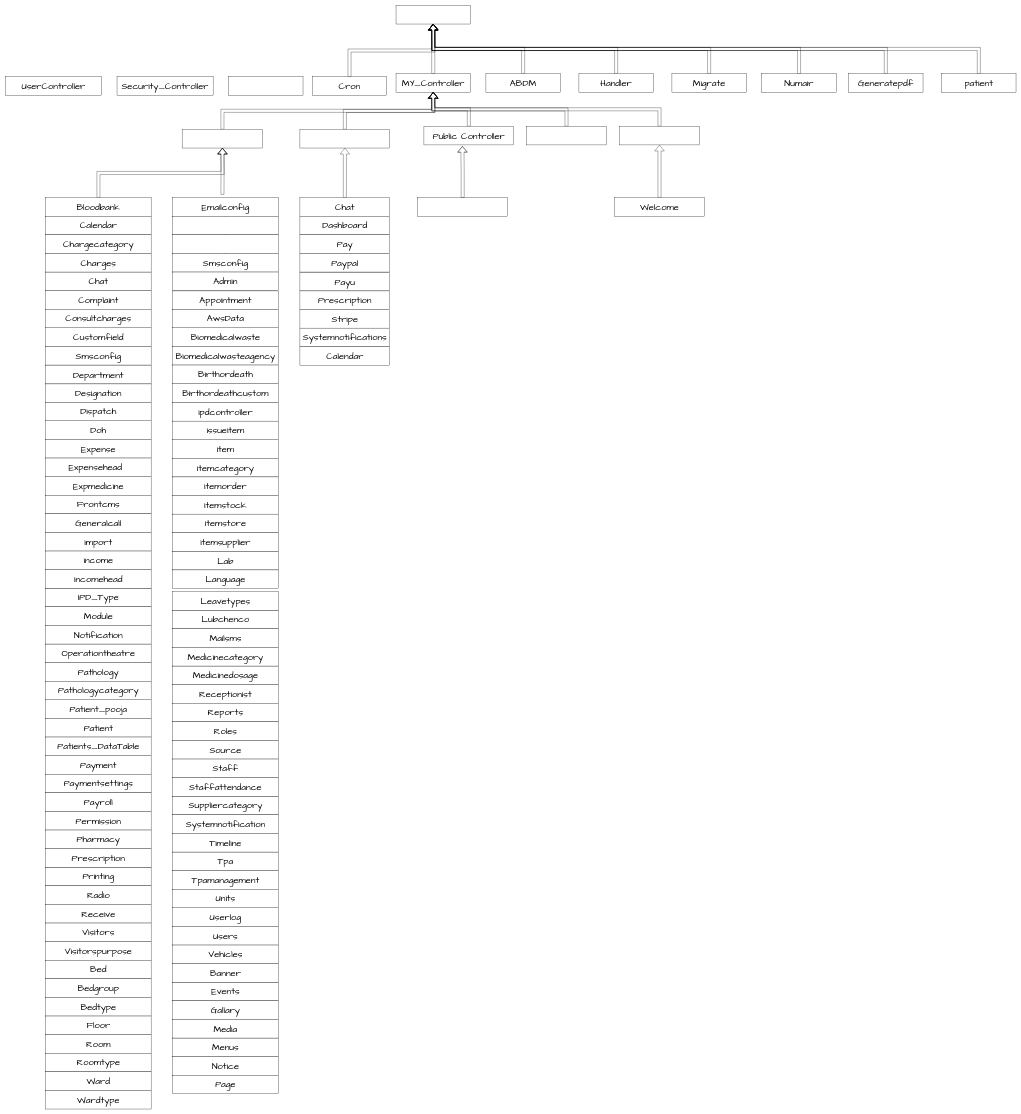
The diagram is 1021 pixels wide and 1114 high, and some of its shapes have lost their labels. The shapes that lost their labels are listed below. From the top down, each one's centre as x and y in pixels, then its label:
pixel 433 14: CI Controller
pixel 265 85: M3services
pixel 222 138: Admin_Controller
pixel 345 138: Patient_Controller
pixel 566 135: Parent_Controller
pixel 659 135: Front_Controller
pixel 225 225: ManageHospitalDetails
pixel 462 206: Site
pixel 225 244: Schsettings
